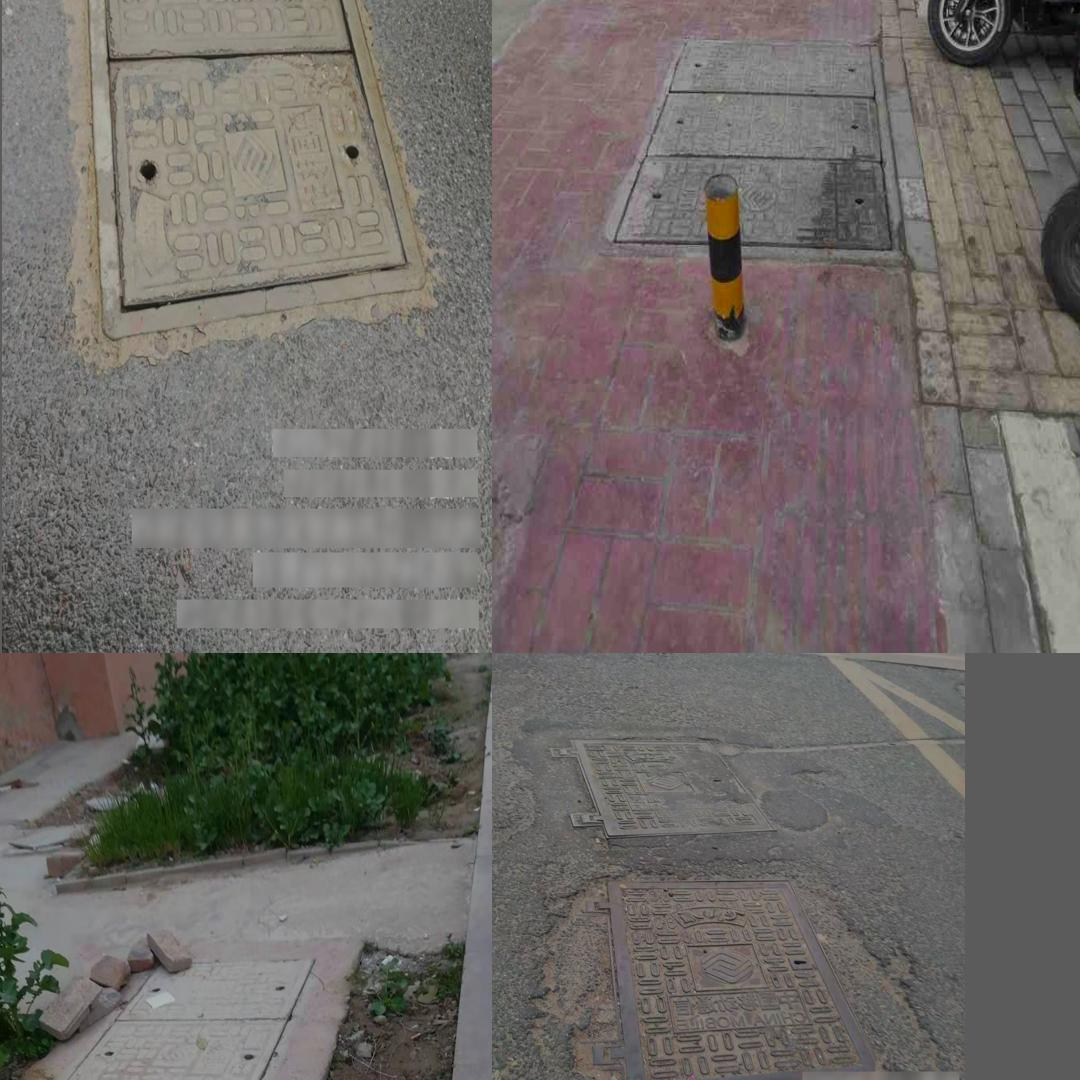good: (84, 0, 424, 342), (616, 23, 901, 244), (583, 878, 880, 1080), (55, 956, 314, 1080), (548, 741, 774, 838)
